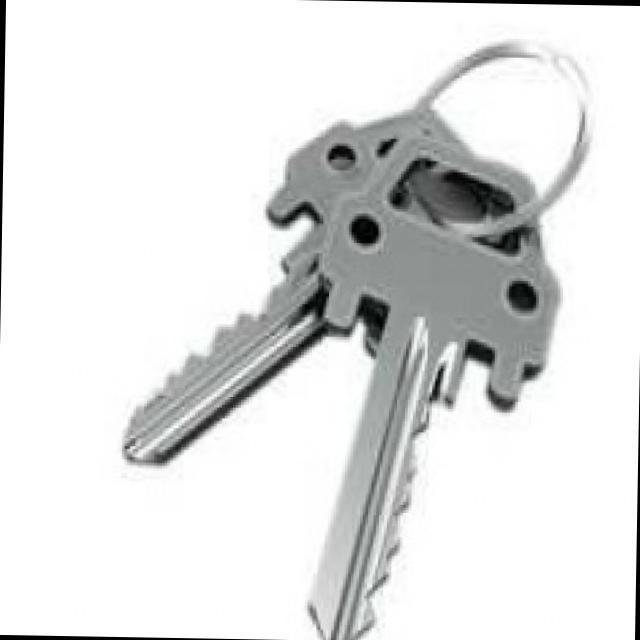Keys: (124, 43, 591, 640), (123, 111, 532, 463), (310, 139, 558, 640)
